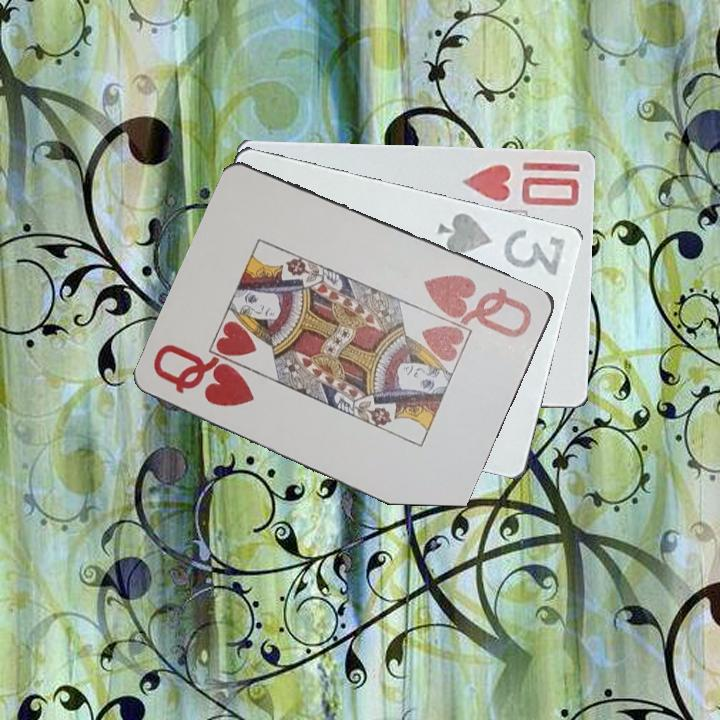3s: (434, 208, 569, 279)
Qh: (420, 270, 536, 341), (150, 340, 258, 410)
Th: (458, 160, 583, 209)
